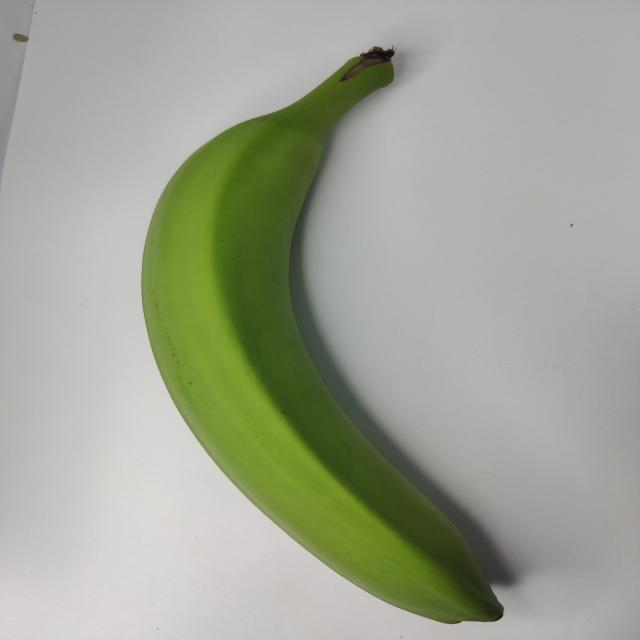raw: (123, 27, 538, 640)
